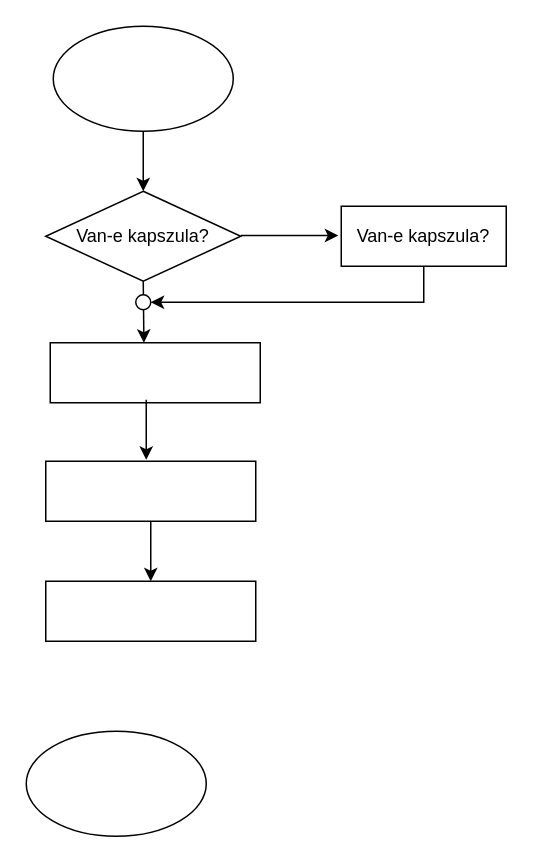
Image size: 533x863. Some labels were removed from this diagram. Here are the shapes that lost their labels. From the top down, the centre of each, then its label:
At point 142,78: "START".
At point 115,783: "STOP".
